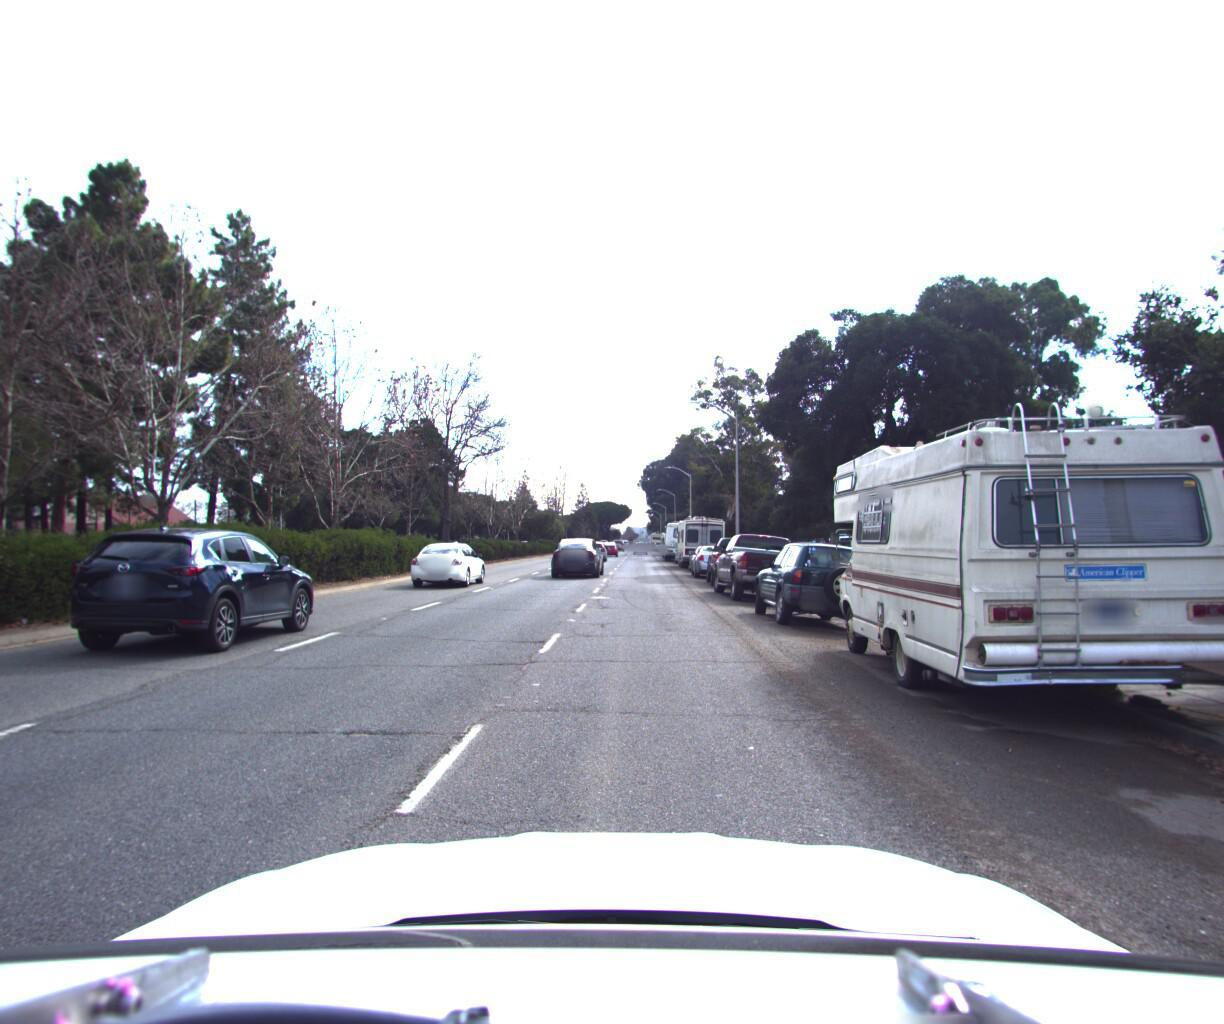car: (65, 516, 330, 659), (746, 533, 883, 627), (707, 521, 821, 603), (409, 533, 489, 586), (702, 528, 770, 583), (550, 532, 607, 576), (687, 537, 740, 575)
other_vehicle: (811, 377, 1224, 744), (671, 505, 727, 560), (659, 513, 703, 555)
